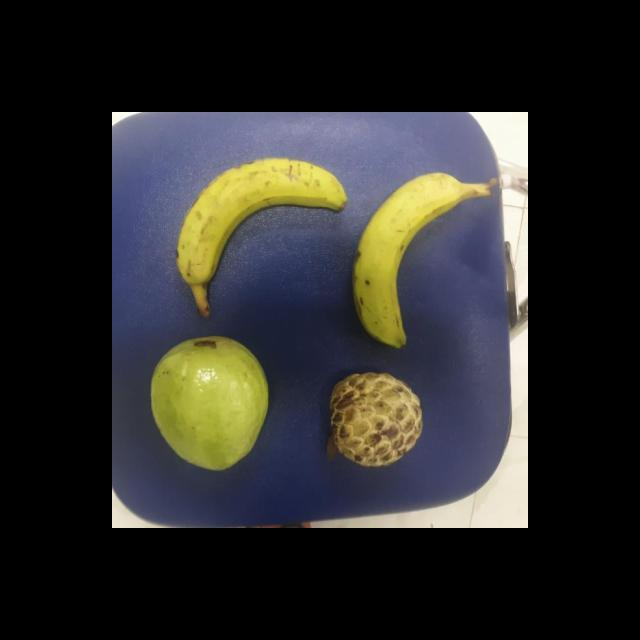Sakya fruit: (324, 365, 430, 473)
banana: (172, 153, 352, 294), (350, 168, 470, 352)
guava: (149, 333, 271, 475)
